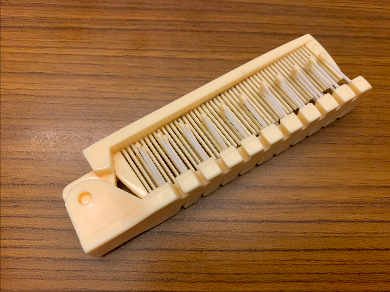object_name: (74, 29, 332, 238)
